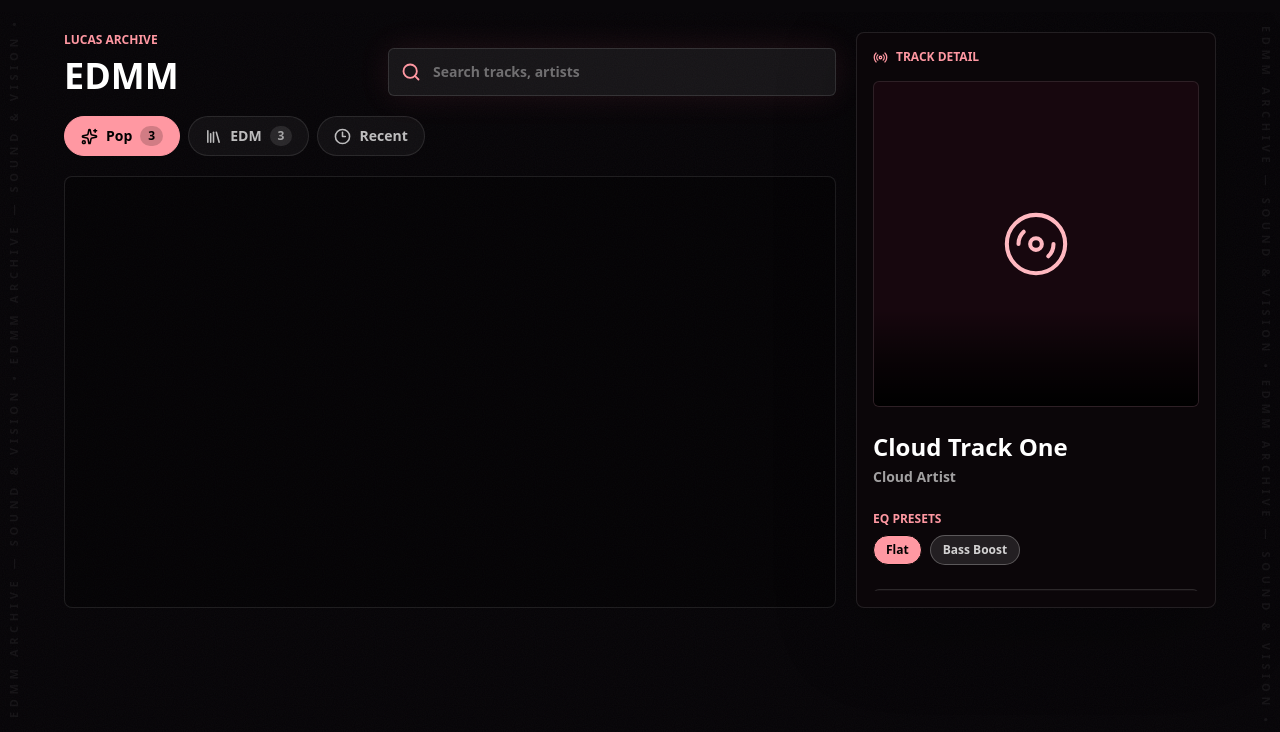
MusicShell › separates search empty state from catalog unavailable state
Type "missing track" into the search field named "search catalog" at coordinates (628, 72), box [433,50,823,94]
Wait 400 ms
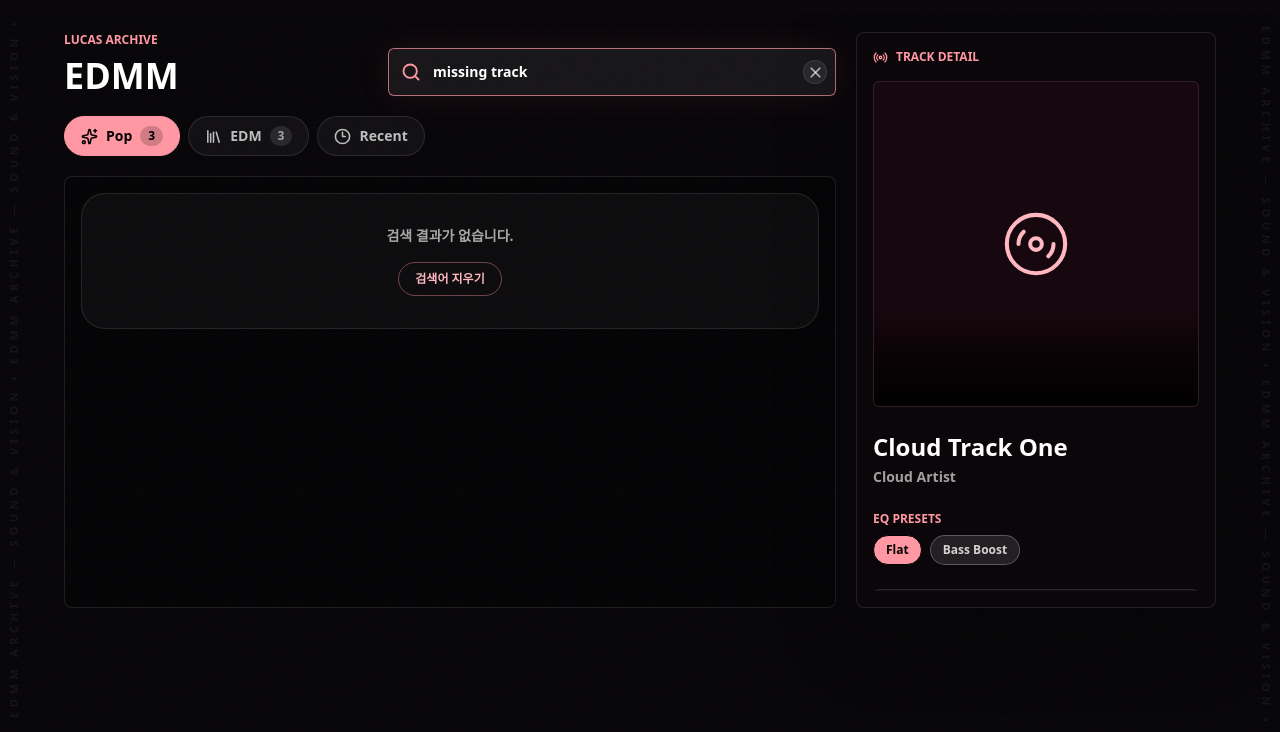
Result: the text "검색 결과가 없습니다." is shown at [386,226,514,245]
